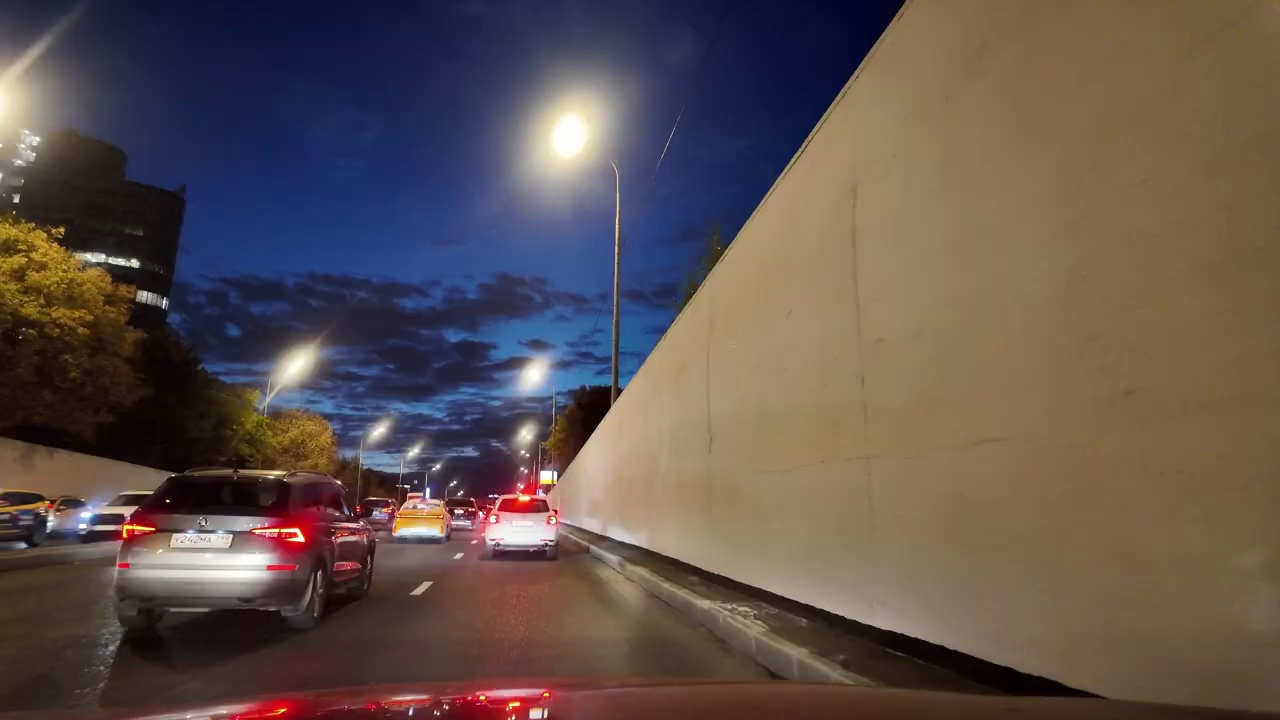acesa: (538, 104, 599, 170), (275, 343, 318, 385), (515, 353, 551, 389)
